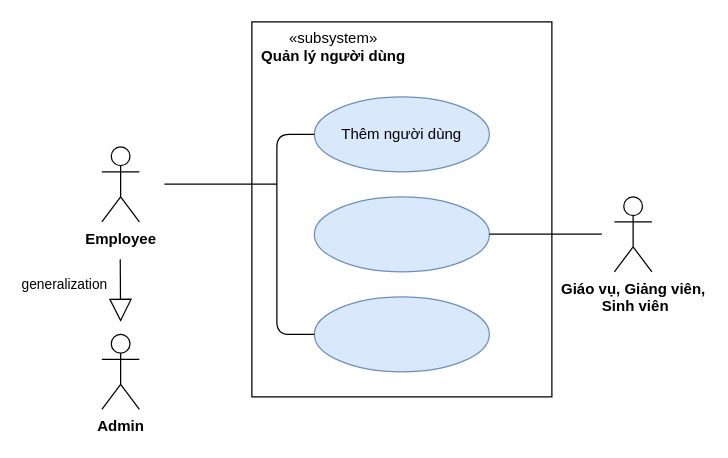
Image size: 728x458. Some labels were removed from this diagram. The box of each missing label's shape, as (x1, y1, x2, y2) in pixels:
Sửa thông tin người dùng: (313, 196, 489, 272)
Xóa người dùng: (313, 296, 489, 372)
